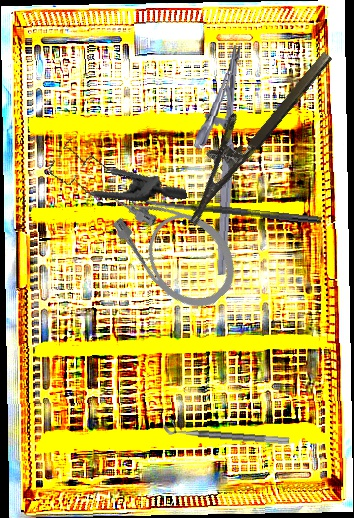Cannula: (90, 158, 252, 324)
Fixation Ring: (162, 415, 291, 446)
Needle Holder: (161, 32, 335, 227), (184, 42, 243, 276)
Speculum: (42, 112, 188, 233)
Surgical Spoon: (132, 196, 322, 224)
